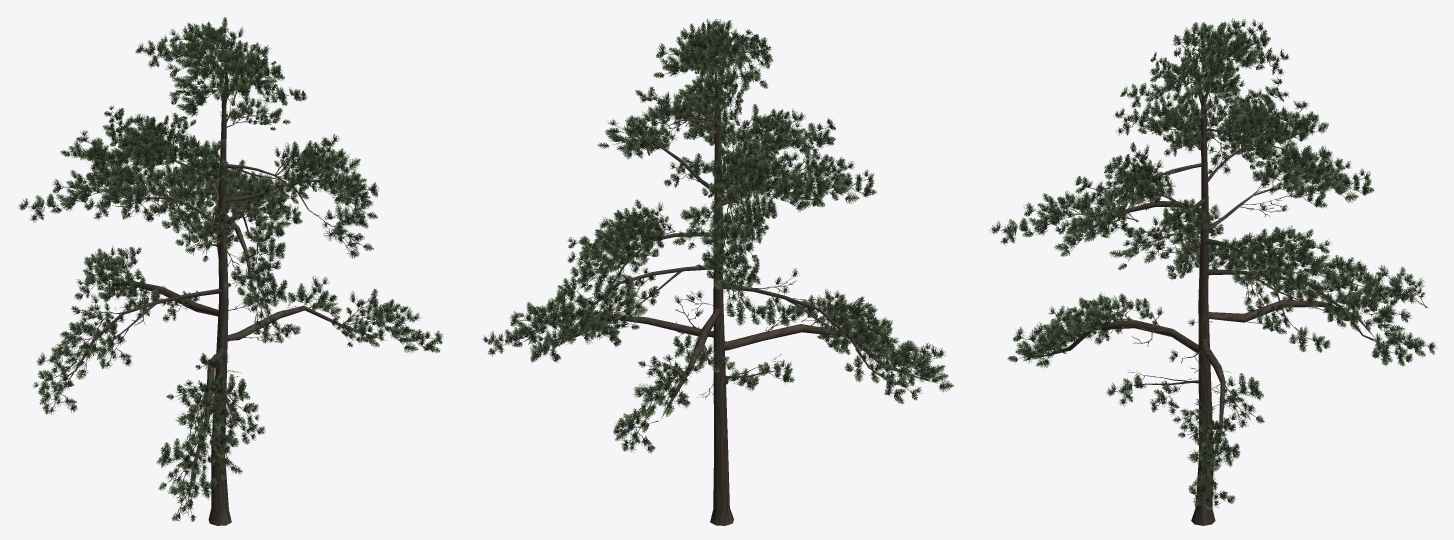
Rendered from pine_tree.glb.
3 renders of one model, left to right at view 1: azimuth 30°, elevation 25°; view 2: azimuth 150°, elevation 25°; view 3: azimuth 270°, elevation 25°, orthographic. The views are drawn at different scales.
Parts seen in each view (by area): view 1: Object_6, Object_4, Object_2, Object_3, Object_5; view 2: Object_6, Object_4, Object_2, Object_3, Object_5; view 3: Object_6, Object_2, Object_3, Object_4, Object_5.
Part boxes in pixels (x1,y1,x2,y2): Object_6: (18,17,443,521); Object_4: (36,56,376,427); Object_2: (55,56,386,525); Object_3: (69,27,441,472); Object_5: (18,100,299,520); Object_6: (483,19,953,452); Object_4: (541,36,918,448); Object_2: (543,28,922,525); Object_3: (484,24,901,453); Object_5: (531,102,946,390); Object_6: (989,18,1436,510); Object_2: (1034,42,1381,525); Object_3: (1041,24,1434,507); Object_4: (990,52,1427,416); Object_5: (1013,107,1408,367).
Bounding box in the file's own units: 335 × 377 × 311.
Materials: 2 (2 with a texture image).
